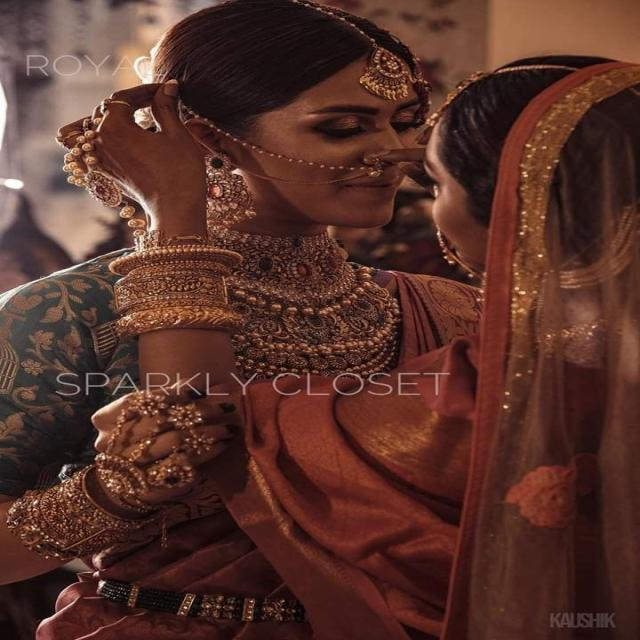Earring: (196, 148, 252, 224)
